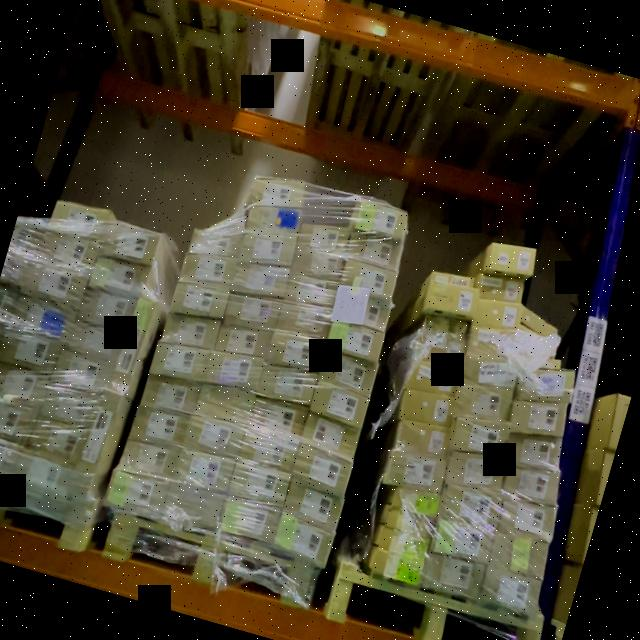box: (72, 392, 121, 485), (106, 301, 155, 393), (421, 548, 487, 599), (479, 569, 544, 619), (429, 518, 495, 566), (440, 479, 502, 530), (104, 469, 166, 519), (489, 531, 552, 580), (273, 513, 333, 564), (382, 447, 446, 494), (282, 481, 343, 530), (330, 283, 392, 331), (495, 497, 561, 542), (293, 446, 352, 496), (177, 450, 237, 497), (98, 220, 160, 265), (311, 382, 369, 429), (301, 415, 360, 461), (449, 416, 512, 459), (444, 449, 507, 492), (222, 496, 280, 542), (11, 453, 73, 496), (128, 405, 188, 449), (500, 463, 561, 506), (148, 340, 209, 383), (229, 463, 289, 506), (24, 262, 84, 305), (461, 350, 519, 394), (28, 419, 84, 464), (321, 352, 378, 396), (240, 428, 299, 470), (185, 414, 244, 456), (505, 430, 564, 472), (454, 382, 515, 422), (13, 300, 71, 342), (89, 256, 150, 295), (48, 199, 110, 237), (509, 398, 569, 437), (169, 483, 226, 524), (170, 281, 228, 321), (515, 365, 576, 403), (120, 438, 178, 477), (37, 391, 95, 430), (40, 230, 98, 269), (49, 350, 108, 388), (65, 323, 121, 363), (257, 368, 319, 404), (0, 332, 57, 371), (79, 289, 133, 330), (0, 361, 48, 407), (177, 253, 235, 291), (206, 353, 261, 393), (194, 387, 255, 423), (327, 322, 383, 361), (405, 359, 462, 397), (392, 423, 449, 461), (268, 332, 326, 369), (398, 390, 454, 428), (369, 548, 425, 586), (409, 329, 465, 367), (163, 313, 220, 350), (229, 265, 291, 299), (423, 281, 478, 318), (224, 293, 282, 327), (346, 233, 400, 269), (376, 526, 429, 562), (142, 375, 196, 410), (251, 401, 306, 435), (236, 236, 298, 266), (355, 202, 405, 237), (340, 260, 393, 293), (287, 274, 336, 309), (277, 304, 330, 336), (485, 242, 536, 275), (215, 326, 271, 356), (475, 272, 525, 305), (471, 299, 525, 329), (296, 224, 348, 255), (291, 250, 344, 279), (246, 179, 304, 205), (382, 507, 431, 537), (390, 488, 439, 518), (467, 326, 518, 354), (246, 210, 301, 235), (421, 314, 470, 341), (516, 307, 560, 336), (189, 229, 240, 254), (0, 399, 28, 443), (512, 351, 560, 372), (430, 272, 474, 288), (0, 442, 15, 469)
